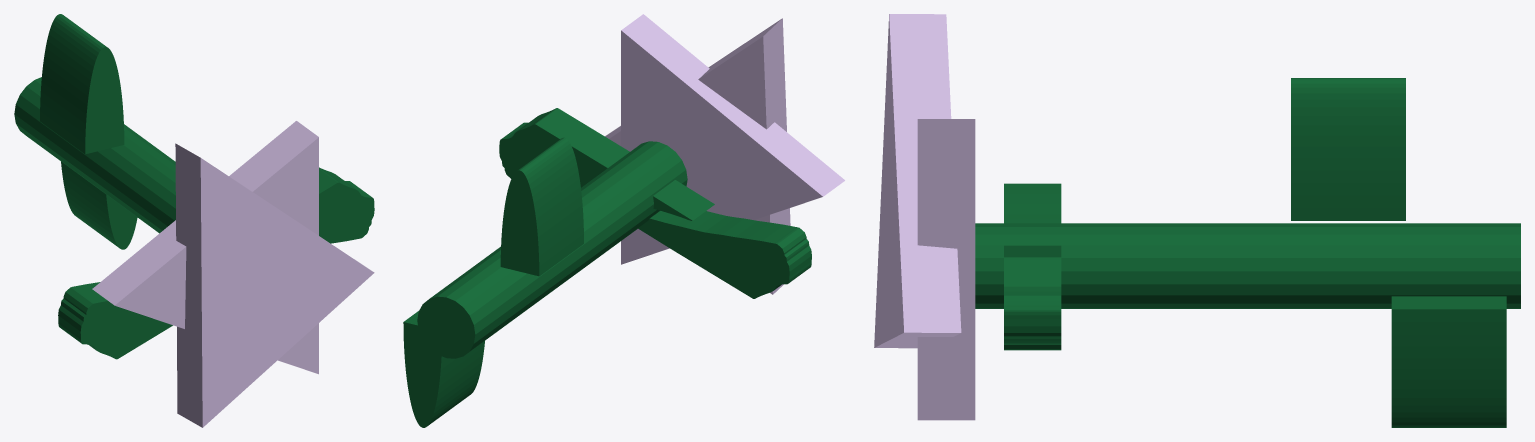
The model's file is tinker.obj.
3 views of the same model, side by side, from view 1: azimuth 30°, elevation 25°; view 2: azimuth 150°, elevation 25°; view 3: azimuth 270°, elevation 25° (orthographic). The views are drawn at different scales.
Parts seen in each view (by area): view 1: group_0_13877221, group_0_1206582; view 2: group_0_1206582, group_0_13877221; view 3: group_0_1206582, group_0_13877221.
Part boxes in pixels (x1,y1,x2,y2): group_0_13877221: (92,121,374,427); group_0_1206582: (14,14,374,359); group_0_1206582: (403,108,811,427); group_0_13877221: (605,14,844,294); group_0_1206582: (975,78,1520,427); group_0_13877221: (874,14,975,420).
Size of the model in its own units: 15 by 13 by 22.52.
